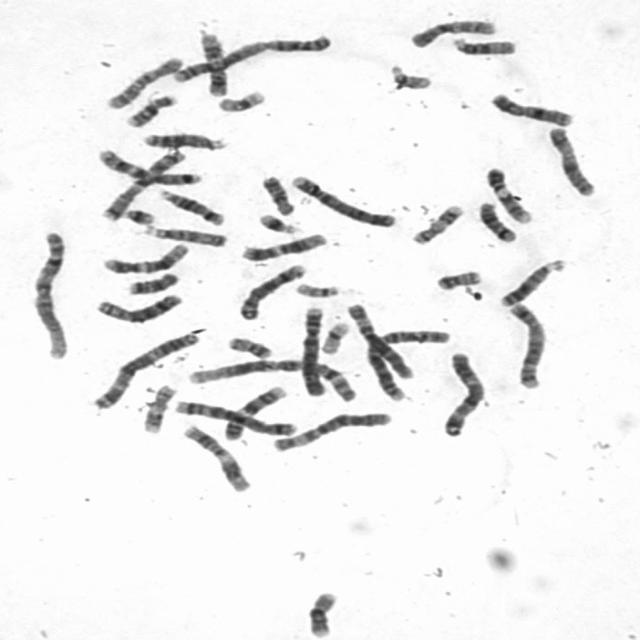A1: (181, 352, 363, 401), (24, 224, 74, 361)
A2: (165, 29, 336, 84), (361, 323, 454, 402)
A3: (86, 327, 202, 410), (436, 346, 488, 438)
B4: (284, 169, 398, 229), (294, 300, 328, 397)
B5: (168, 395, 300, 437), (501, 297, 550, 390)
C10: (99, 51, 185, 110), (404, 13, 499, 49)
C11: (175, 420, 253, 494), (193, 26, 232, 98)
C12: (96, 238, 191, 276), (234, 227, 330, 262)
C6: (340, 297, 418, 381), (266, 406, 395, 453)
C7: (95, 144, 189, 222), (92, 144, 204, 187)
C8: (232, 258, 309, 321), (89, 288, 185, 324)
C9: (217, 381, 289, 441), (479, 160, 535, 224)
D13: (493, 254, 569, 308), (138, 126, 228, 152)
D14: (151, 184, 227, 226), (471, 196, 520, 243)
D15: (137, 220, 230, 248), (446, 32, 519, 56)
E16: (120, 88, 180, 128), (299, 586, 341, 638)
E17: (405, 198, 466, 246), (135, 379, 179, 435)
E18: (255, 170, 298, 216), (122, 266, 182, 296)
F19: (211, 85, 268, 113), (314, 316, 352, 355)
F20: (221, 330, 275, 360), (429, 264, 485, 291)
G21: (252, 208, 302, 236), (116, 201, 158, 226)
G22: (380, 60, 430, 92), (289, 277, 342, 298)
X: (541, 120, 600, 198), (484, 87, 578, 128)
